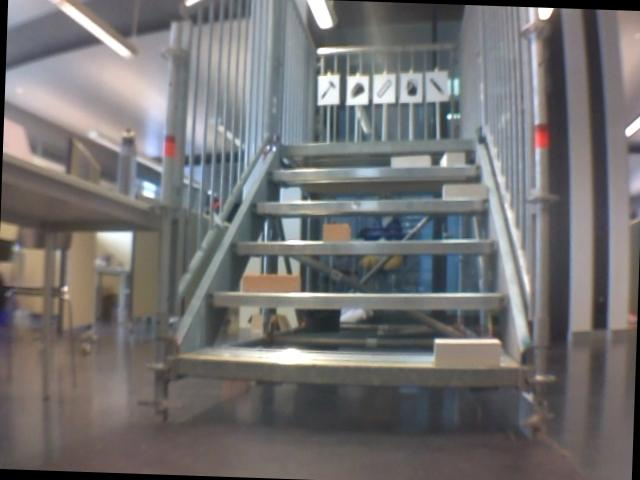brick: (433, 338, 500, 370), (243, 273, 299, 293), (442, 183, 487, 199), (321, 223, 351, 242), (391, 154, 431, 167), (441, 152, 463, 165)
bucket: (402, 76, 419, 97)
edge: (176, 354, 523, 391), (208, 284, 511, 314), (232, 231, 498, 260), (250, 189, 487, 220), (269, 158, 481, 185), (281, 133, 470, 159)
hammer: (318, 78, 337, 101)
pencil: (428, 74, 446, 97)
ruler: (374, 76, 394, 101)
steps: (169, 127, 538, 393)
taco: (347, 79, 365, 98)
